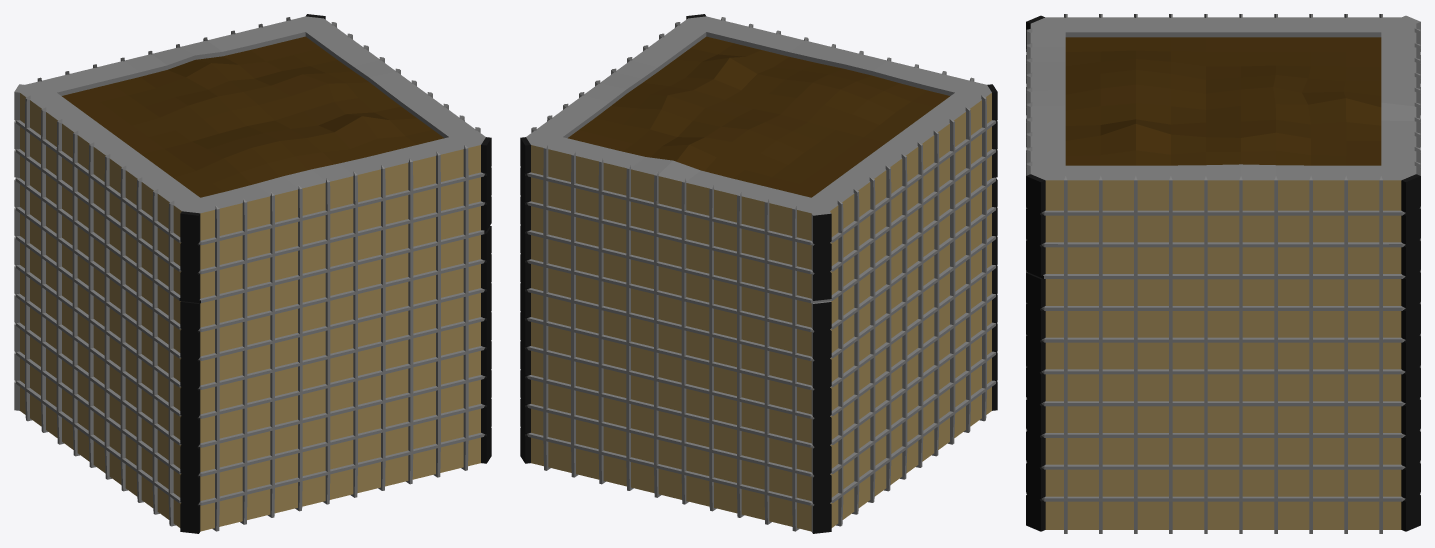
The model's file is HescoBarrier.fbx.
The picture shows the model from 3 angles, left to right: view 1: azimuth 30°, elevation 25°; view 2: azimuth 150°, elevation 25°; view 3: azimuth 270°, elevation 25°; orthographic projection. The views are drawn at different scales.
Parts seen in each view (by area): view 1: Cube; view 2: Cube; view 3: Cube.
Boxes of the visible parts, x1,y1,x2,y2 form: Cube: (14, 14, 491, 533); Cube: (520, 14, 997, 533); Cube: (1026, 14, 1420, 533).
Size of the model in its own units: 205 by 209 by 205.
